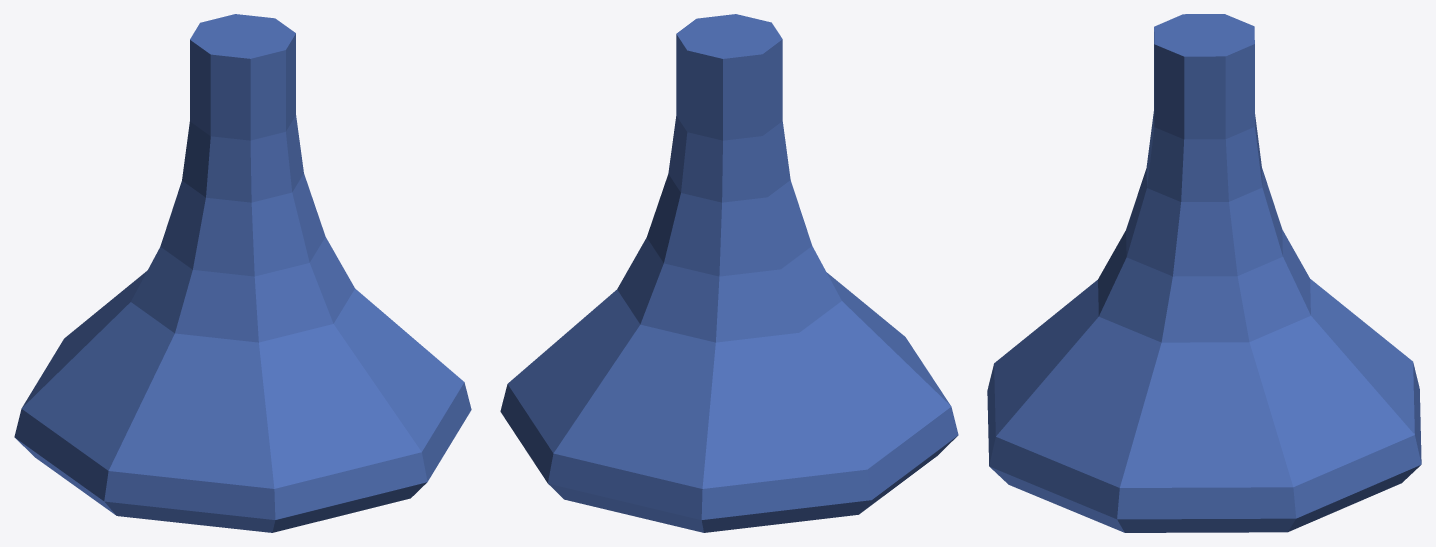
File: Flask_Colour.fbx
3 renders of one model, left to right at view 1: azimuth 30°, elevation 25°; view 2: azimuth 150°, elevation 25°; view 3: azimuth 270°, elevation 25°, orthographic.
Parts seen in each view (by area): view 1: PotionTubeLiquid.021; view 2: PotionTubeLiquid.021; view 3: PotionTubeLiquid.021.
Boxes of the visible parts, x1,y1,x2,y2 form: PotionTubeLiquid.021: [14, 14, 471, 532]; PotionTubeLiquid.021: [500, 14, 958, 532]; PotionTubeLiquid.021: [987, 14, 1421, 532].
Size of the model in its own units: 24.48 by 27.76 by 24.48.
